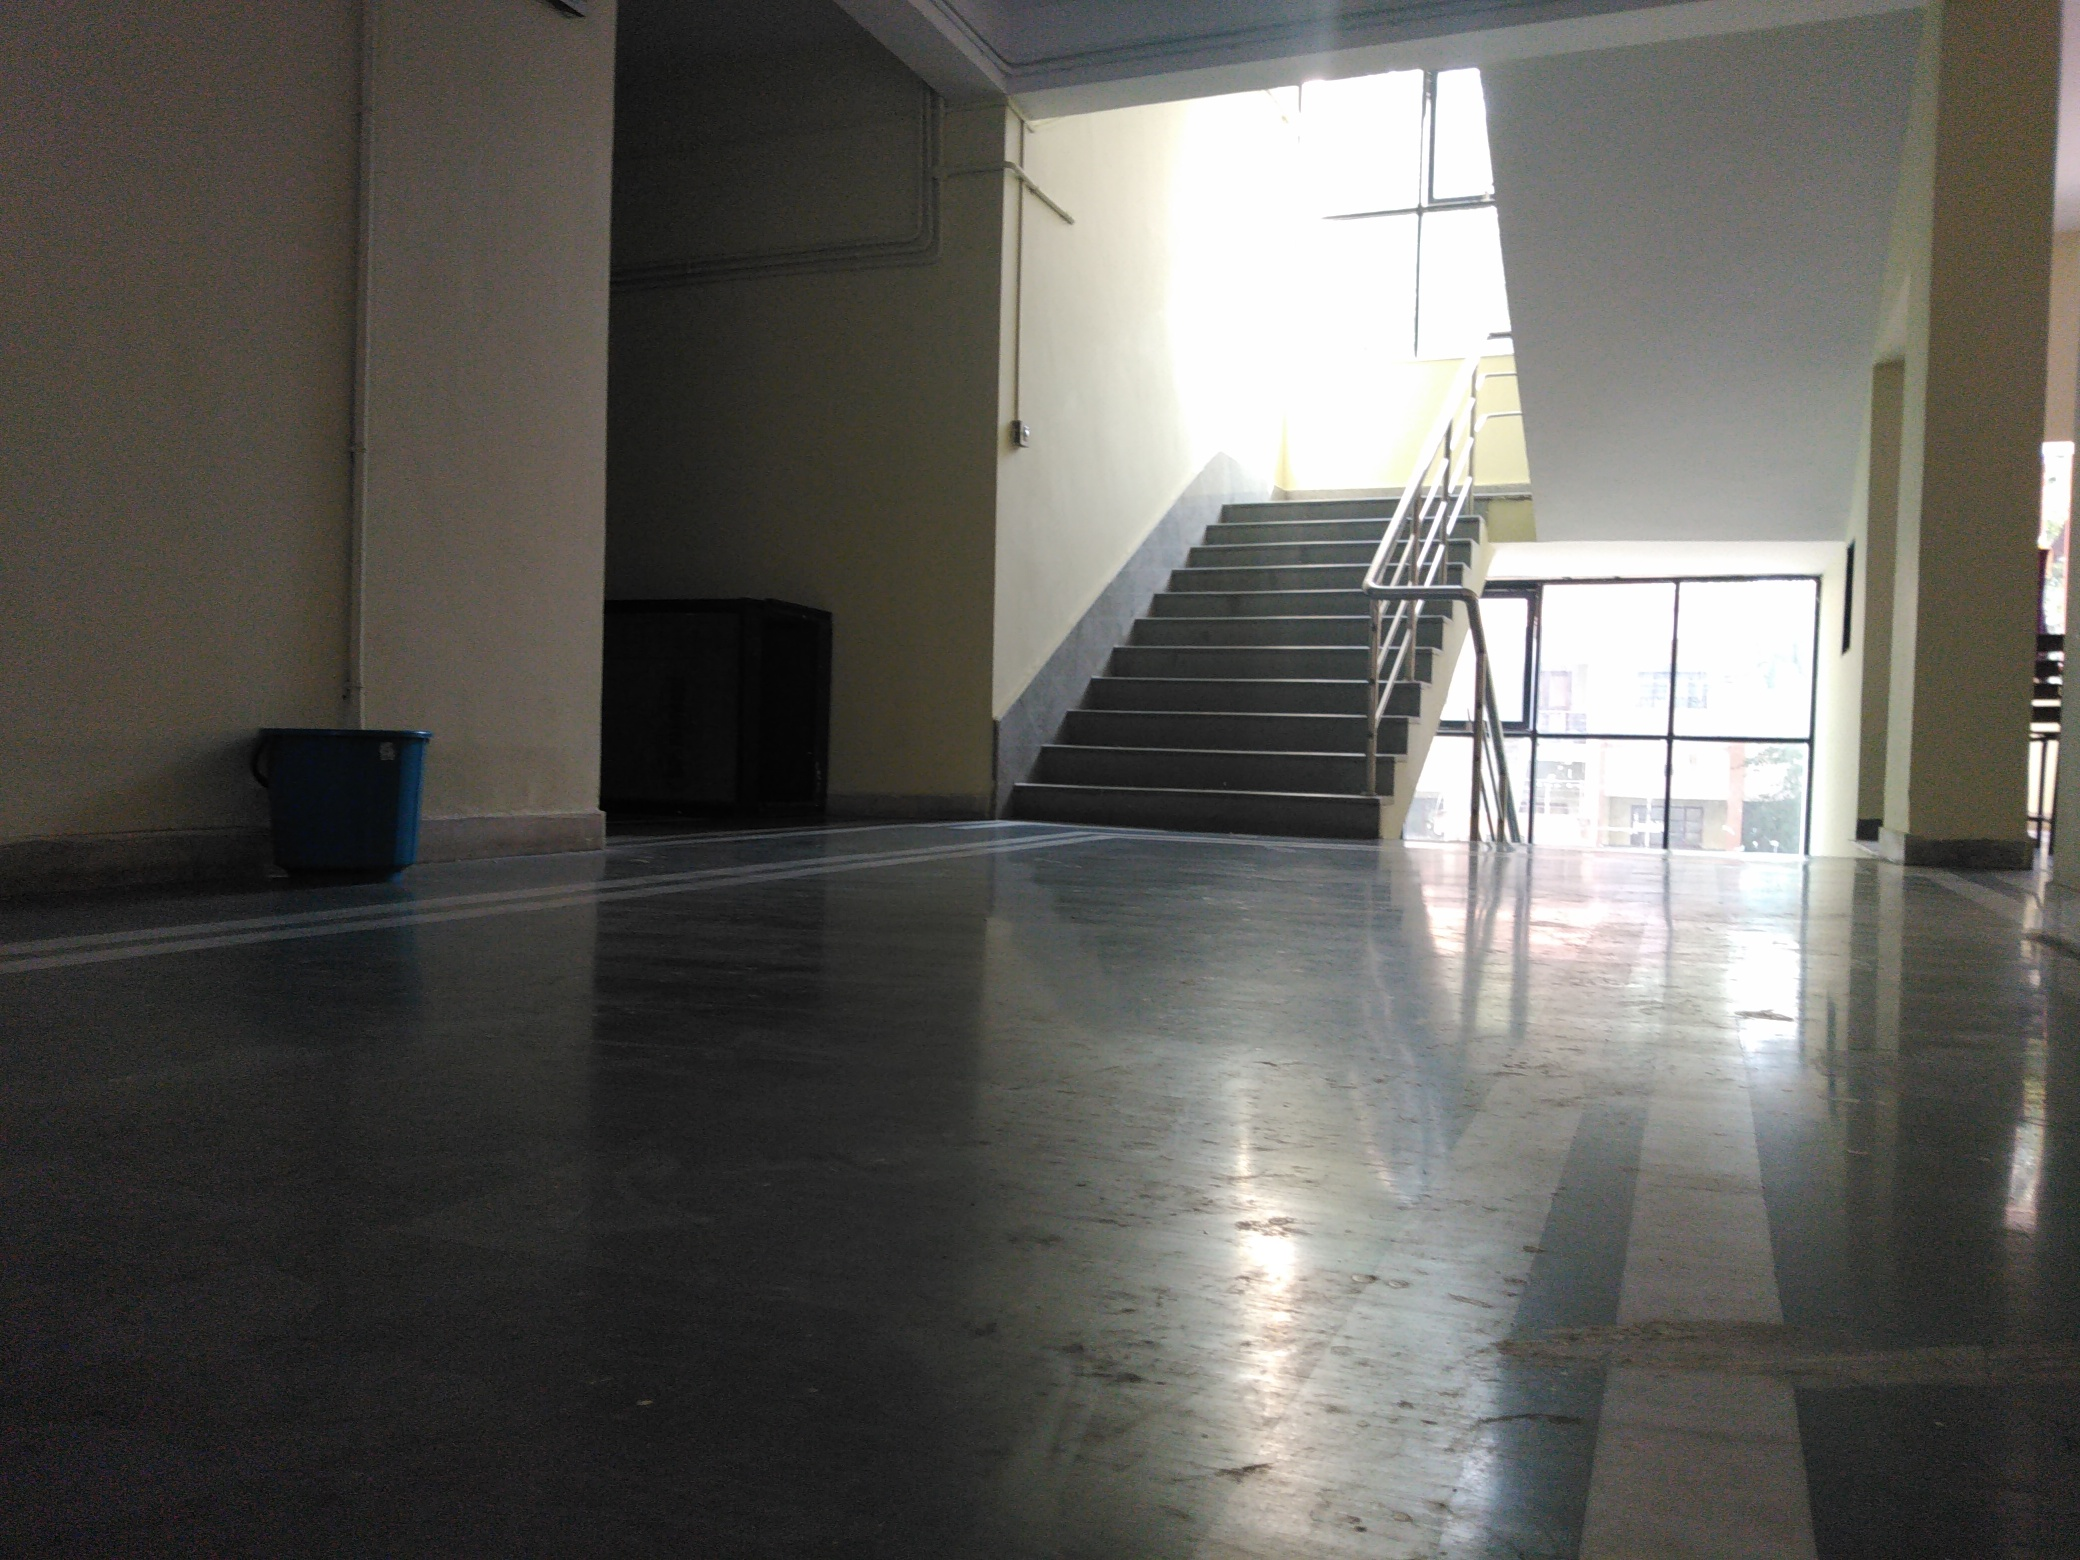stairs_up: (971, 482, 1487, 850)
